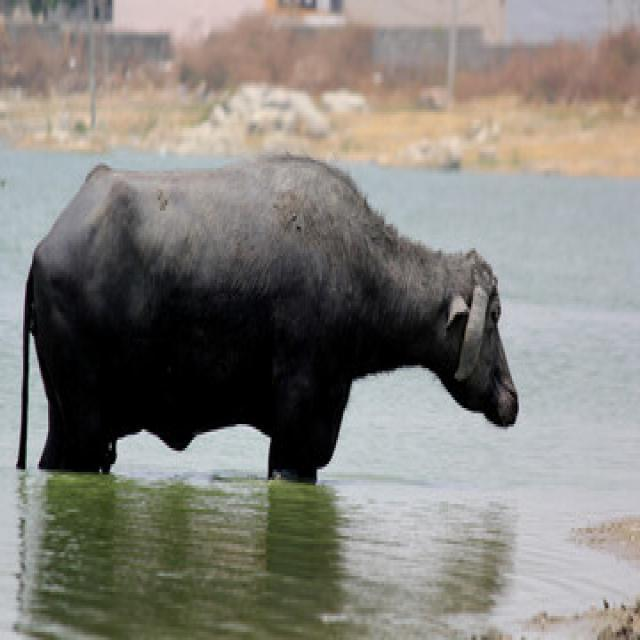Buffalo: (12, 147, 521, 488)
